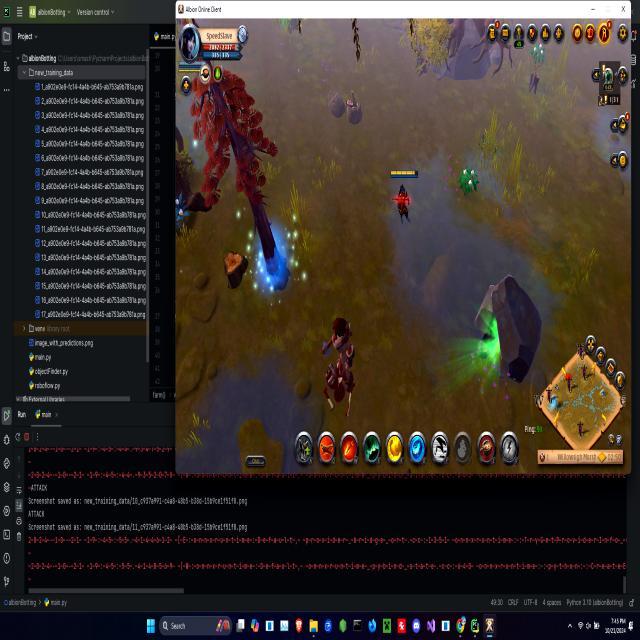hide: (456, 164, 478, 202), (527, 34, 546, 72), (176, 192, 190, 233)
ore: (319, 307, 362, 405)
red: (388, 160, 422, 231), (176, 56, 208, 74)
wisp caged: (194, 48, 294, 293)
